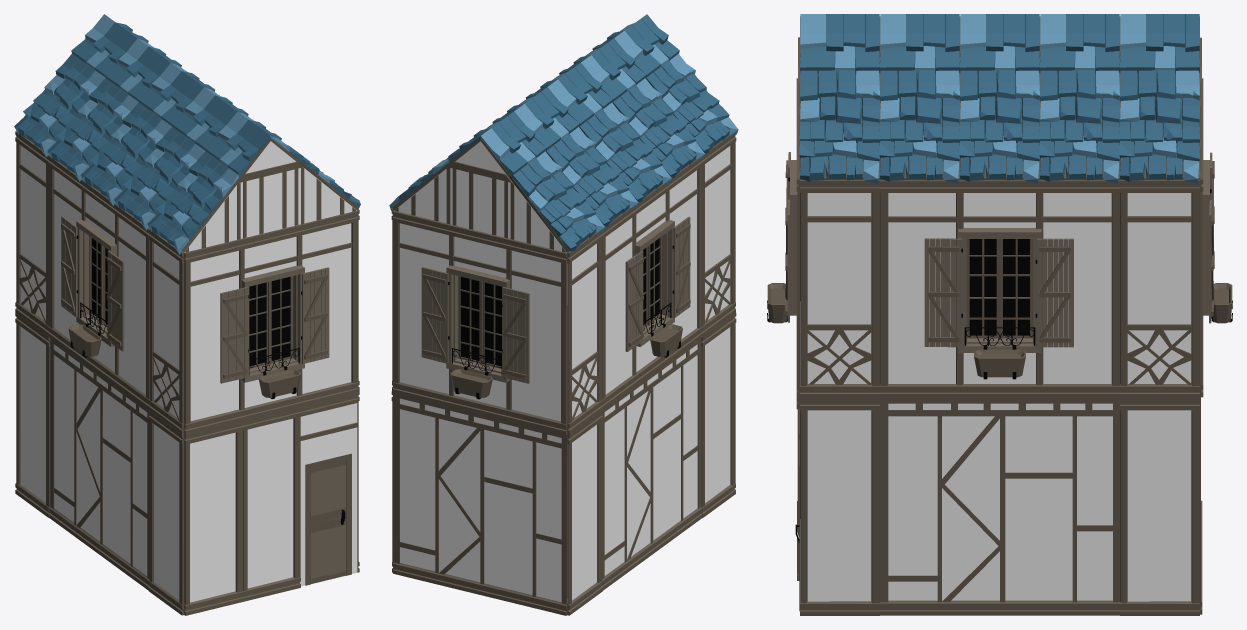
Rendered from house_08_full.glb.
3 renders of one model, left to right at view 1: azimuth 30°, elevation 25°; view 2: azimuth 150°, elevation 25°; view 3: azimuth 270°, elevation 25°, orthographic. The views are drawn at different scales.
Visible parts, largest first — view 1: WINDOW_05_2, WINDOW_05_4, WALL_05_2, WALL_03_4, WALL_03_3, DOOR_01_3, WALL_04_6, WALL_03_5, WALL_03_6, WALL_04_5, ROOF_base_8, ROOF_base_10 (+13 smaller); view 2: WINDOW_05_5, WALL_05_3, WINDOW_05_4, WALL_05_2, WALL_04_5, WALL_03_6, WALL_03_5, WALL_04_6, ROOF_base_12, ROOF_base_10, ROOF_base_8, ROOF_base_9 (+11 smaller); view 3: WINDOW_05_3, WALL_05_4, WALL_04_4, WALL_04_3, WALL_03_7, WALL_03_8, ROOF_base_3, ROOF_base_6, ROOF_base_4, ROOF_base_5, ROOF_base_7, ROOF_base_small_5 (+6 smaller).
Part boxes in pixels (<box>): WINDOW_05_2: <box>184,210,358,434</box>; WINDOW_05_4: <box>48,155,149,409</box>; WALL_05_2: <box>49,338,149,590</box>; WALL_03_4: <box>184,421,243,615</box>; WALL_03_3: <box>242,407,300,601</box>; DOOR_01_3: <box>300,392,358,586</box>; WALL_04_6: <box>148,228,184,434</box>; WALL_03_5: <box>148,410,184,615</box>; WALL_03_6: <box>15,313,50,517</box>; WALL_04_5: <box>15,131,49,336</box>; ROOF_base_8: <box>147,151,241,254</box>; ROOF_base_10: <box>80,102,171,205</box>; WINDOW_05_5: <box>392,210,567,434</box>; WALL_05_3: <box>393,393,567,615</box>; WINDOW_05_4: <box>601,159,702,409</box>; WALL_05_2: <box>601,338,702,590</box>; WALL_04_5: <box>567,232,602,434</box>; WALL_03_6: <box>567,410,602,615</box>; WALL_03_5: <box>701,313,736,517</box>; WALL_04_6: <box>701,134,736,336</box>; ROOF_base_12: <box>509,151,605,252</box>; ROOF_base_10: <box>579,103,671,202</box>; ROOF_base_8: <box>646,53,738,153</box>; ROOF_base_9: <box>613,78,704,177</box>; WINDOW_05_3: <box>880,179,1119,398</box>; WALL_05_4: <box>880,398,1119,615</box>; WALL_04_4: <box>1120,179,1199,398</box>; WALL_04_3: <box>800,179,879,398</box>; WALL_03_7: <box>800,398,879,615</box>; WALL_03_8: <box>1120,398,1199,615</box>; ROOF_base_3: <box>799,69,880,183</box>; ROOF_base_6: <box>1039,69,1120,183</box>; ROOF_base_4: <box>879,69,960,183</box>; ROOF_base_5: <box>959,69,1040,183</box>; ROOF_base_7: <box>1119,70,1200,183</box>; ROOF_base_small_5: <box>880,14,959,73</box>.
Size of the model in its own units: 3.82 by 7.59 by 5.82.
Materials: 1 (1 with a texture image).
